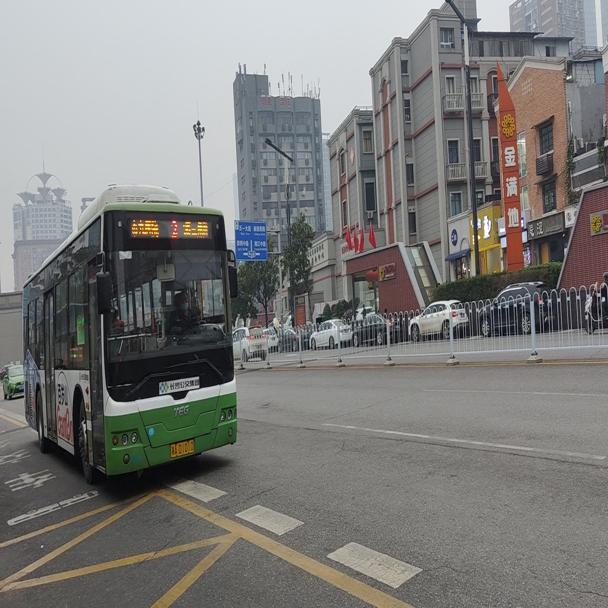bus: (20, 180, 241, 483)
screen: (167, 218, 182, 240)
